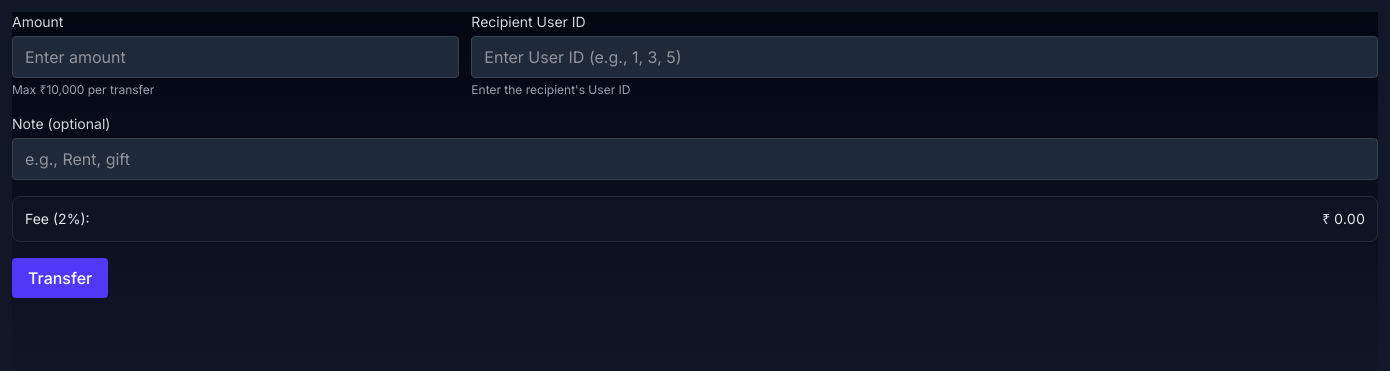
Test: TransferMoneyForm Component › applies 2% fee and enforces 10,000 limit
// Enter recipient ID (now a text input instead of dropdown)
Type "1" into the field with placeholder "Enter User ID (e.g., 1, 3, 5)" at [925, 57], box [471,36,1378,78]
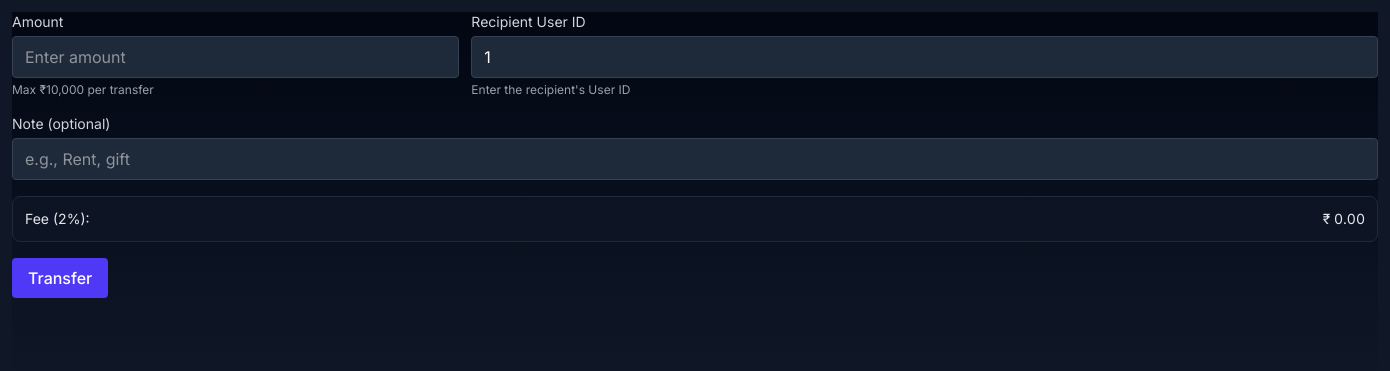
Type "500" into the number field with placeholder "Enter amount" at [236, 57], box [12,36,459,78]
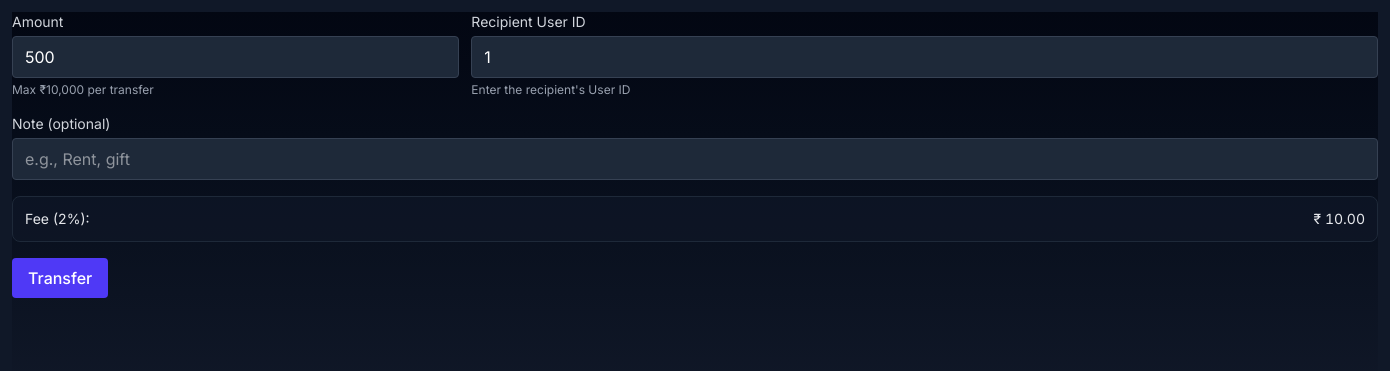
Expected: the text "Fee (2%):" is shown, [25,209,90,229]
Expected: the text "₹ 10.00" is shown, [1314,209,1365,229]
// Enter amount beyond limit and submit
Replace the text in the number field with placeholder "Enter amount" with "10001" at [236, 57], box [12,36,459,78]
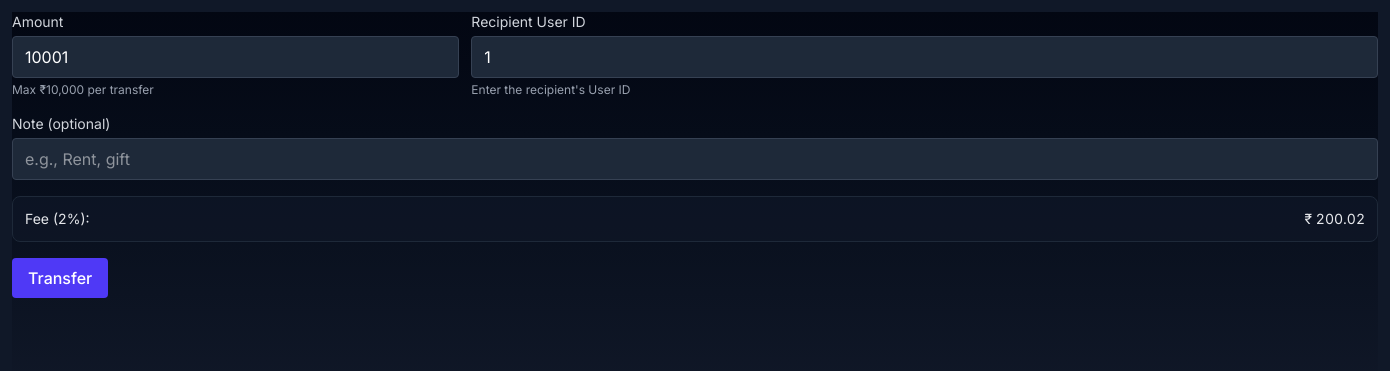
Click the button "Transfer" at [60, 278], box [12,258,108,298]
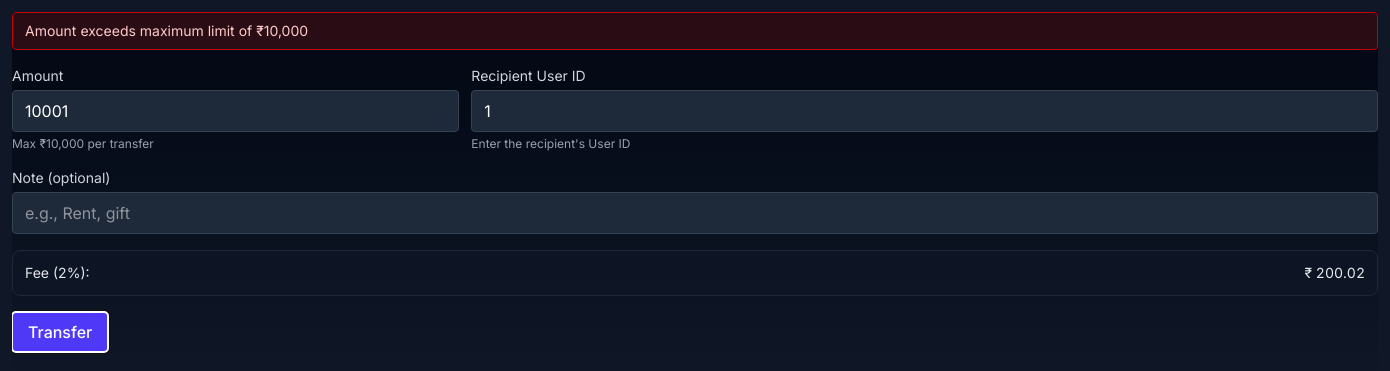
Expected: the text "Amount exceeds maximum limit of ₹10,000" is shown, [12,12,1378,50]
